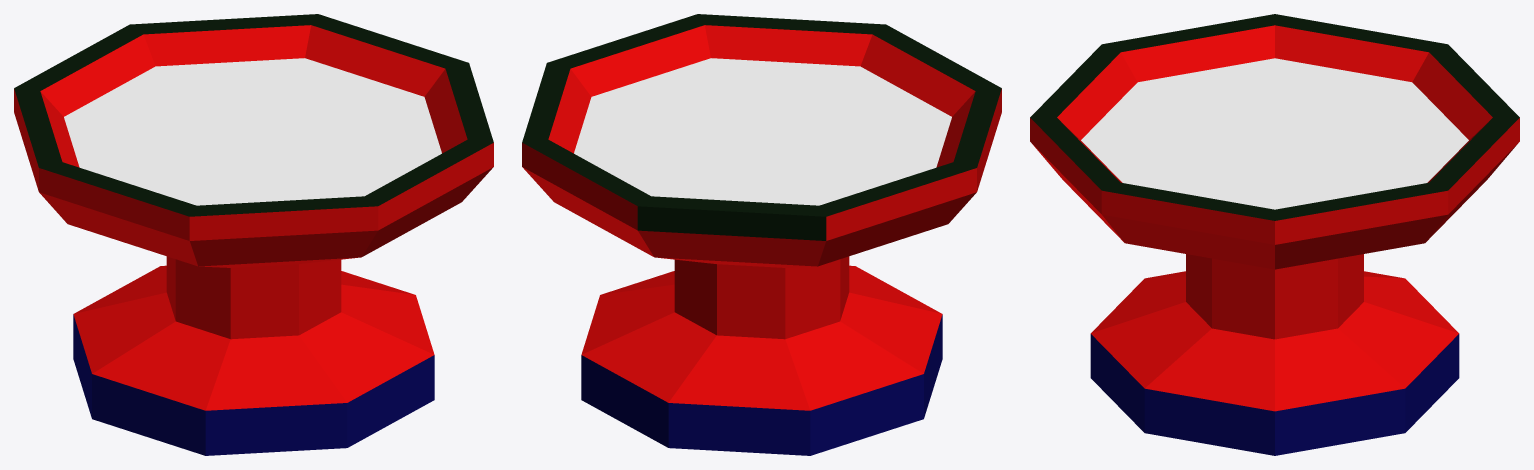
File: FBX_Shrine.fbx
The picture shows the model from 3 angles, left to right: view 1: azimuth 30°, elevation 25°; view 2: azimuth 150°, elevation 25°; view 3: azimuth 270°, elevation 25°; orthographic projection.
Visible parts, largest first — view 1: Shrine; view 2: Shrine; view 3: Shrine.
Boxes of the visible parts, box(x1,y1,x2,y2) form: Shrine: box(14, 14, 493, 455); Shrine: box(522, 14, 1001, 455); Shrine: box(1030, 14, 1519, 455).
Bounding box in the file's own units: 199 × 117 × 199.
